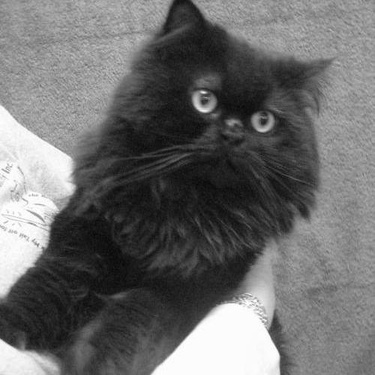cat: (5, 6, 351, 365)
